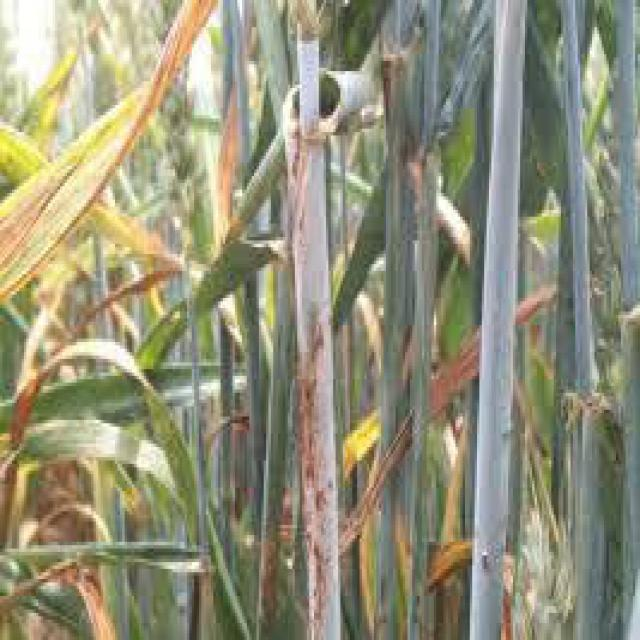Stem Rust: (275, 306, 348, 640)
